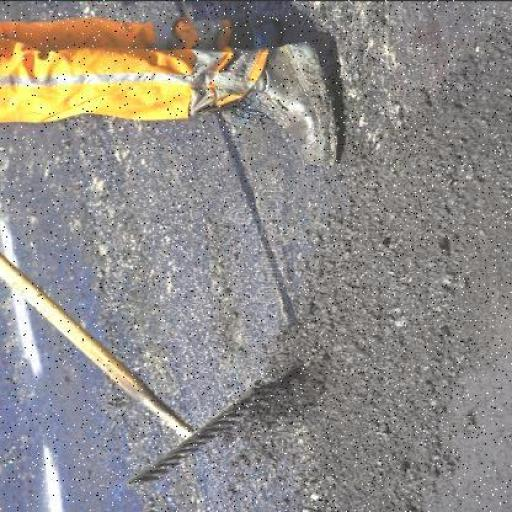safety_shoe: (239, 30, 349, 172)
